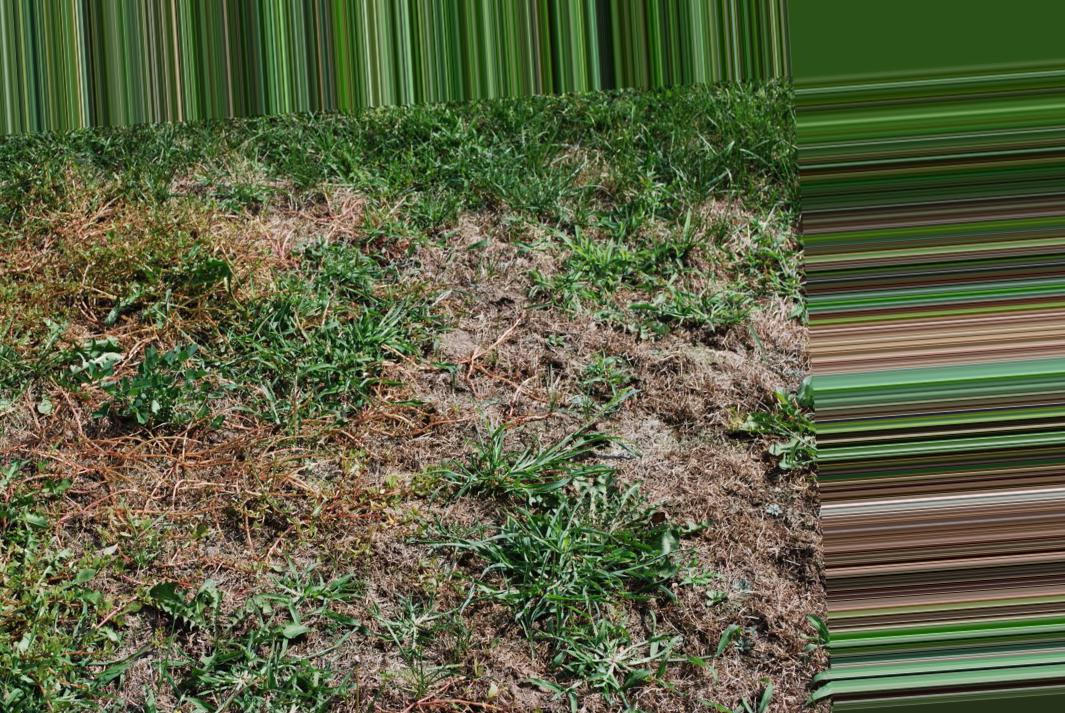patch: (418, 364, 587, 450), (681, 544, 805, 640), (97, 478, 220, 568), (650, 438, 734, 533), (275, 431, 336, 538), (356, 456, 415, 527)
